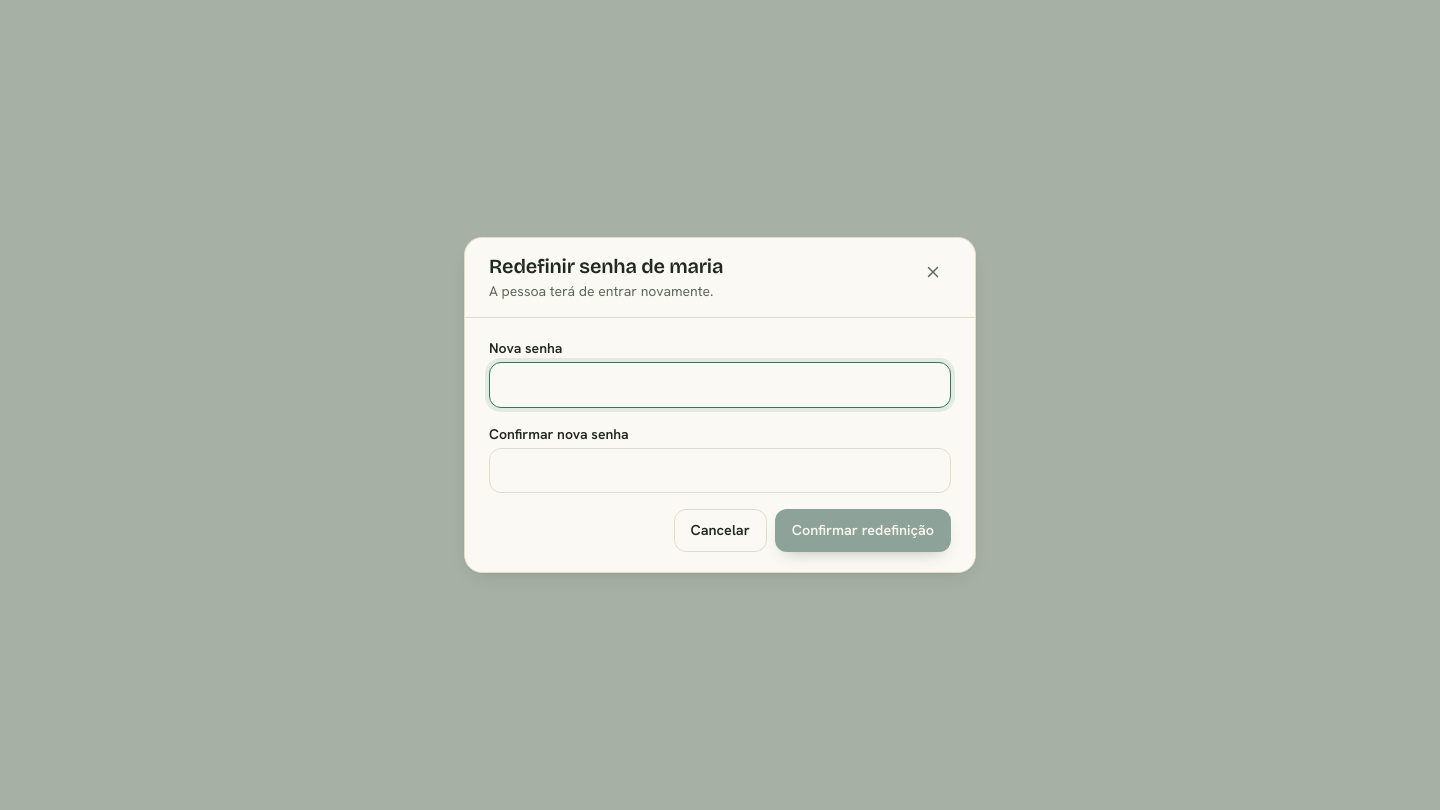
ResetPasswordModal › mostra a mensagem especifica da API sem fechar
In the password field labelled "Nova senha": (720, 385) [489, 362, 951, 408], type "Nova-Senha-123"
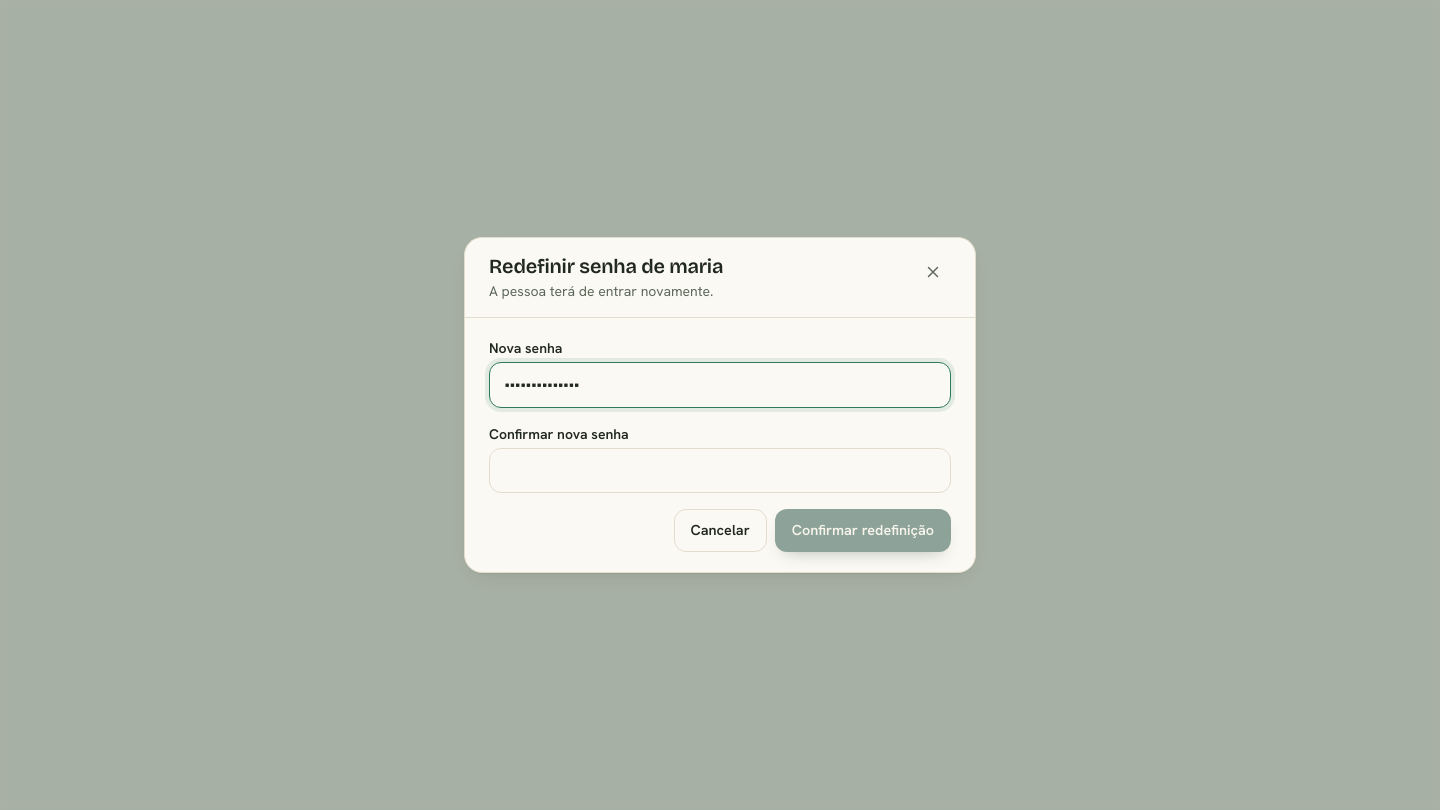
In the password field labelled "Confirmar nova senha": (720, 471) [489, 448, 951, 494], type "Nova-Senha-123"
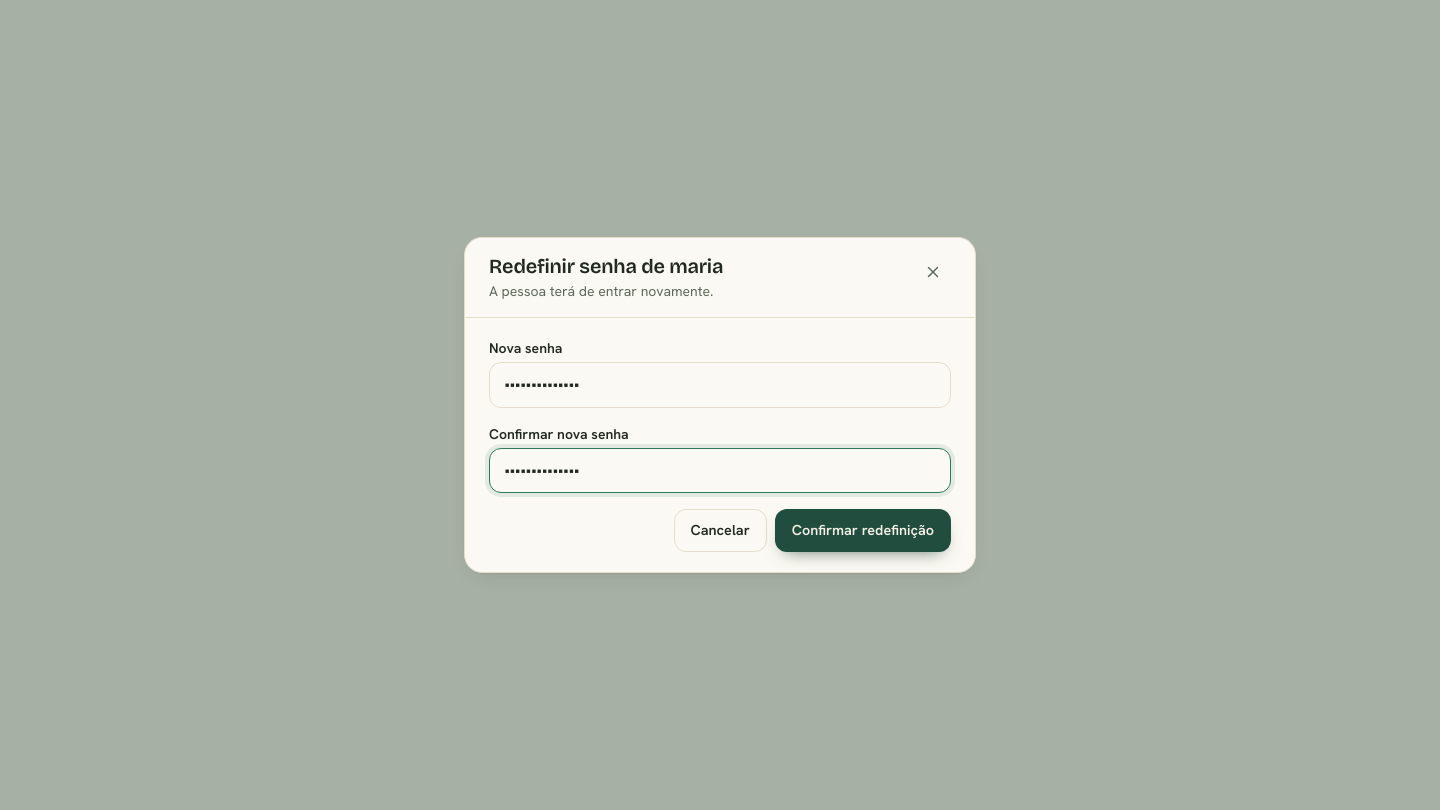
Click the button "Confirmar redefinição": (863, 531) [775, 510, 951, 552]
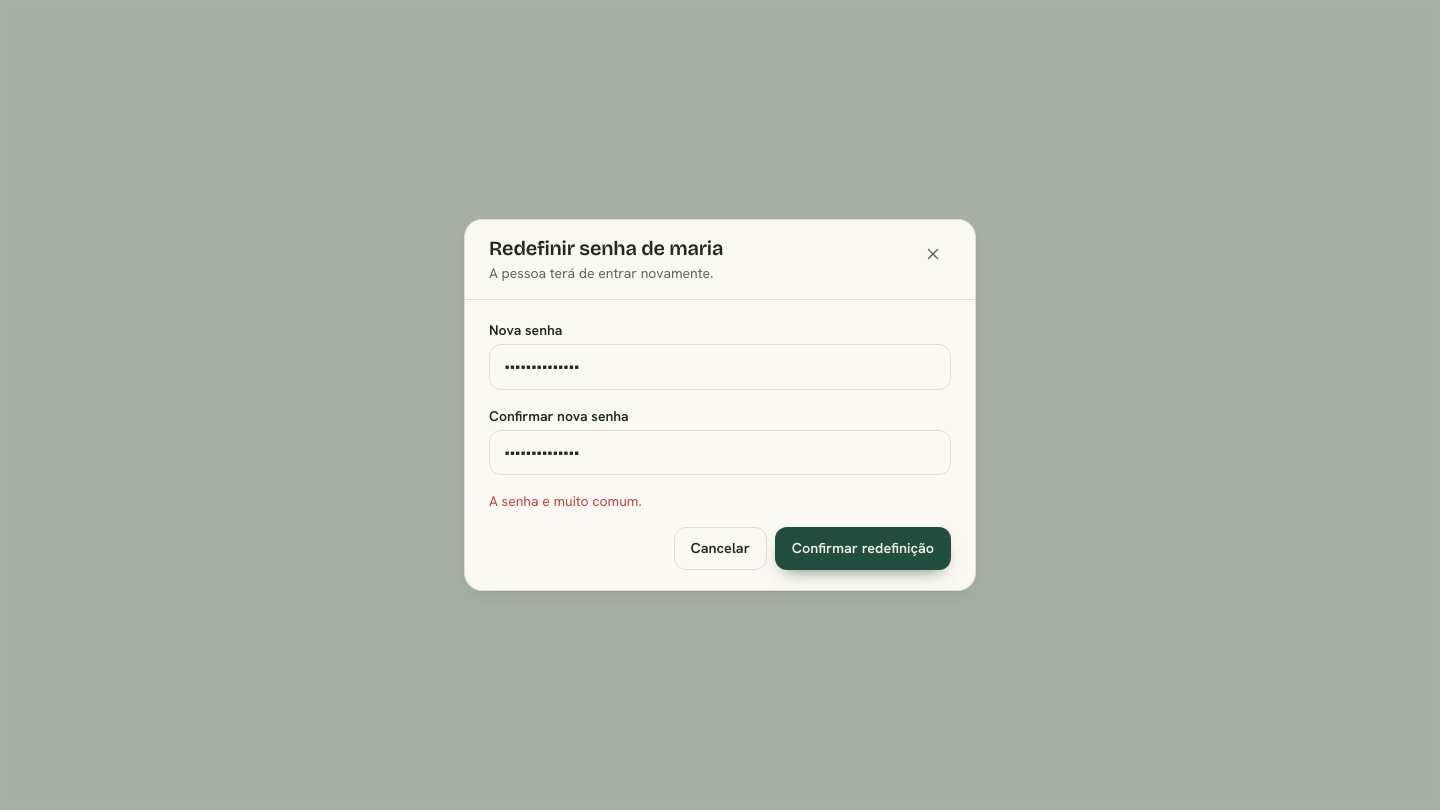
Now the text "A senha e muito comum." is shown, box [489, 492, 642, 510]
